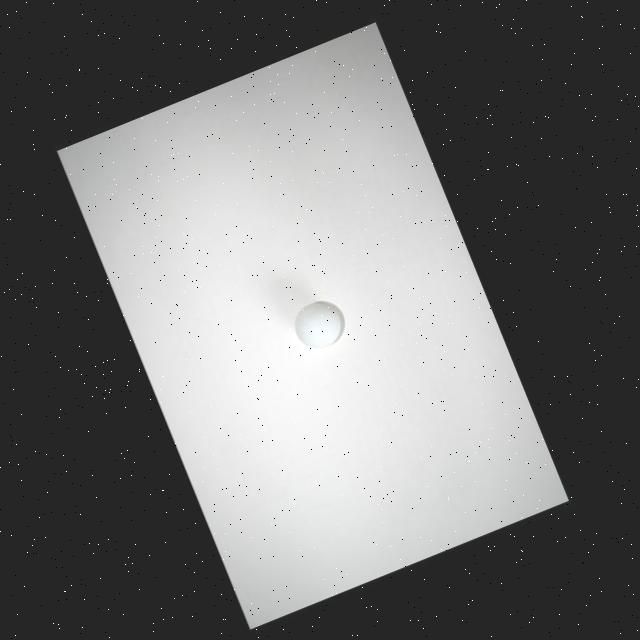ping-pong-ball: (286, 291, 352, 356)
